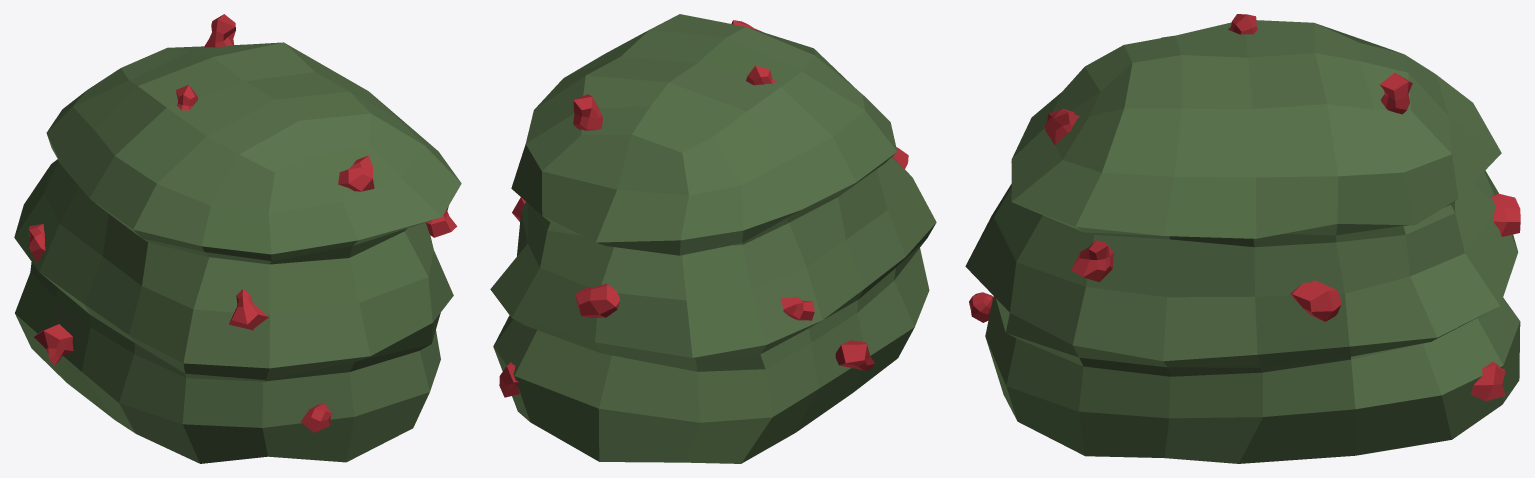
The model's file is bush_berries_1.glb.
The picture shows the model from 3 angles, left to right: view 1: azimuth 30°, elevation 25°; view 2: azimuth 150°, elevation 25°; view 3: azimuth 270°, elevation 25°; orthographic projection. The views are drawn at different scales.
Visible parts, largest first — view 1: bush_berries_1; view 2: bush_berries_1; view 3: bush_berries_1.
Part boxes in pixels (x1,y1,x2,y2): bush_berries_1: (14, 14, 461, 463); bush_berries_1: (490, 14, 936, 463); bush_berries_1: (965, 14, 1520, 463).
Bounding box in the file's own units: 1.39 × 1.28 × 1.72.
1 material, 1 textured.
